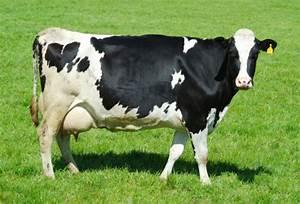cow: (29, 26, 277, 186)
